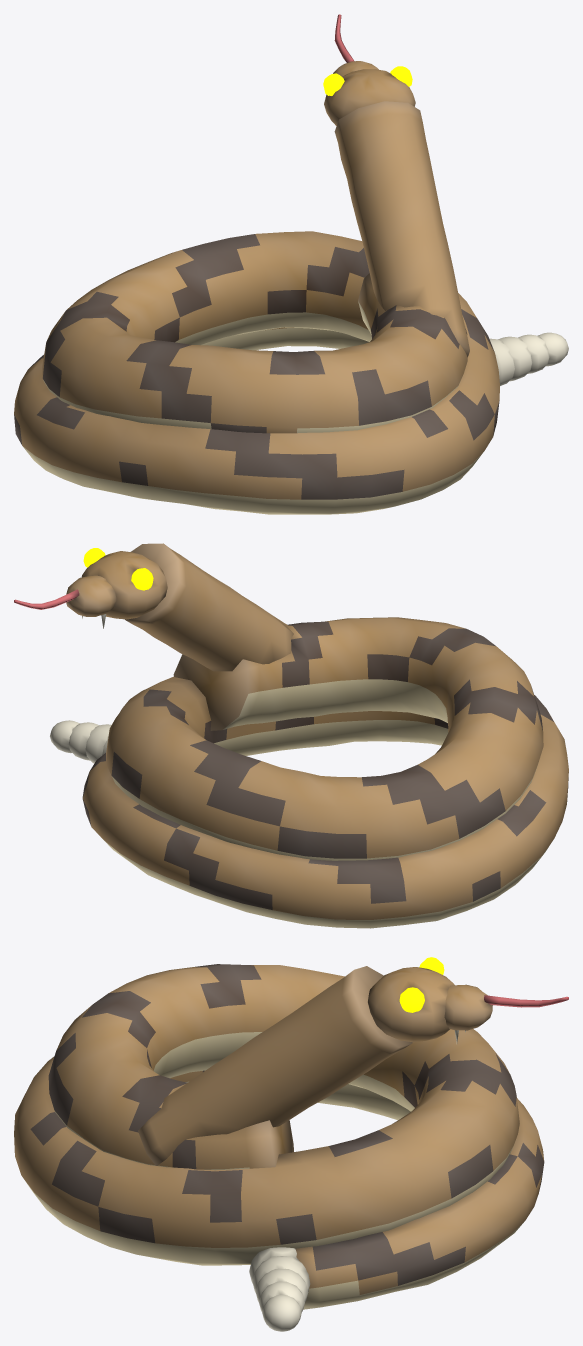
3 views of the same model, one above another, from view 1: azimuth 30°, elevation 25°; view 2: azimuth 150°, elevation 25°; view 3: azimuth 270°, elevation 25° (orthographic). The views are drawn at different scales.
Parts seen in each view (by area): view 1: torso, head, rattle; view 2: torso, head, rattle; view 3: torso, head, rattle.
Boxes of the visible parts, box(x1,y1,x2,y2) form: torso: box(14, 231, 499, 514); head: box(323, 14, 469, 356); rattle: box(489, 332, 568, 385); torso: box(82, 617, 568, 928); head: box(14, 543, 293, 671); rattle: box(50, 720, 111, 763); torso: box(14, 964, 544, 1309); head: box(138, 957, 568, 1165); rattle: box(249, 1247, 310, 1331).
Size of the model in its own units: 0.7755 by 0.4279 by 0.6757.
